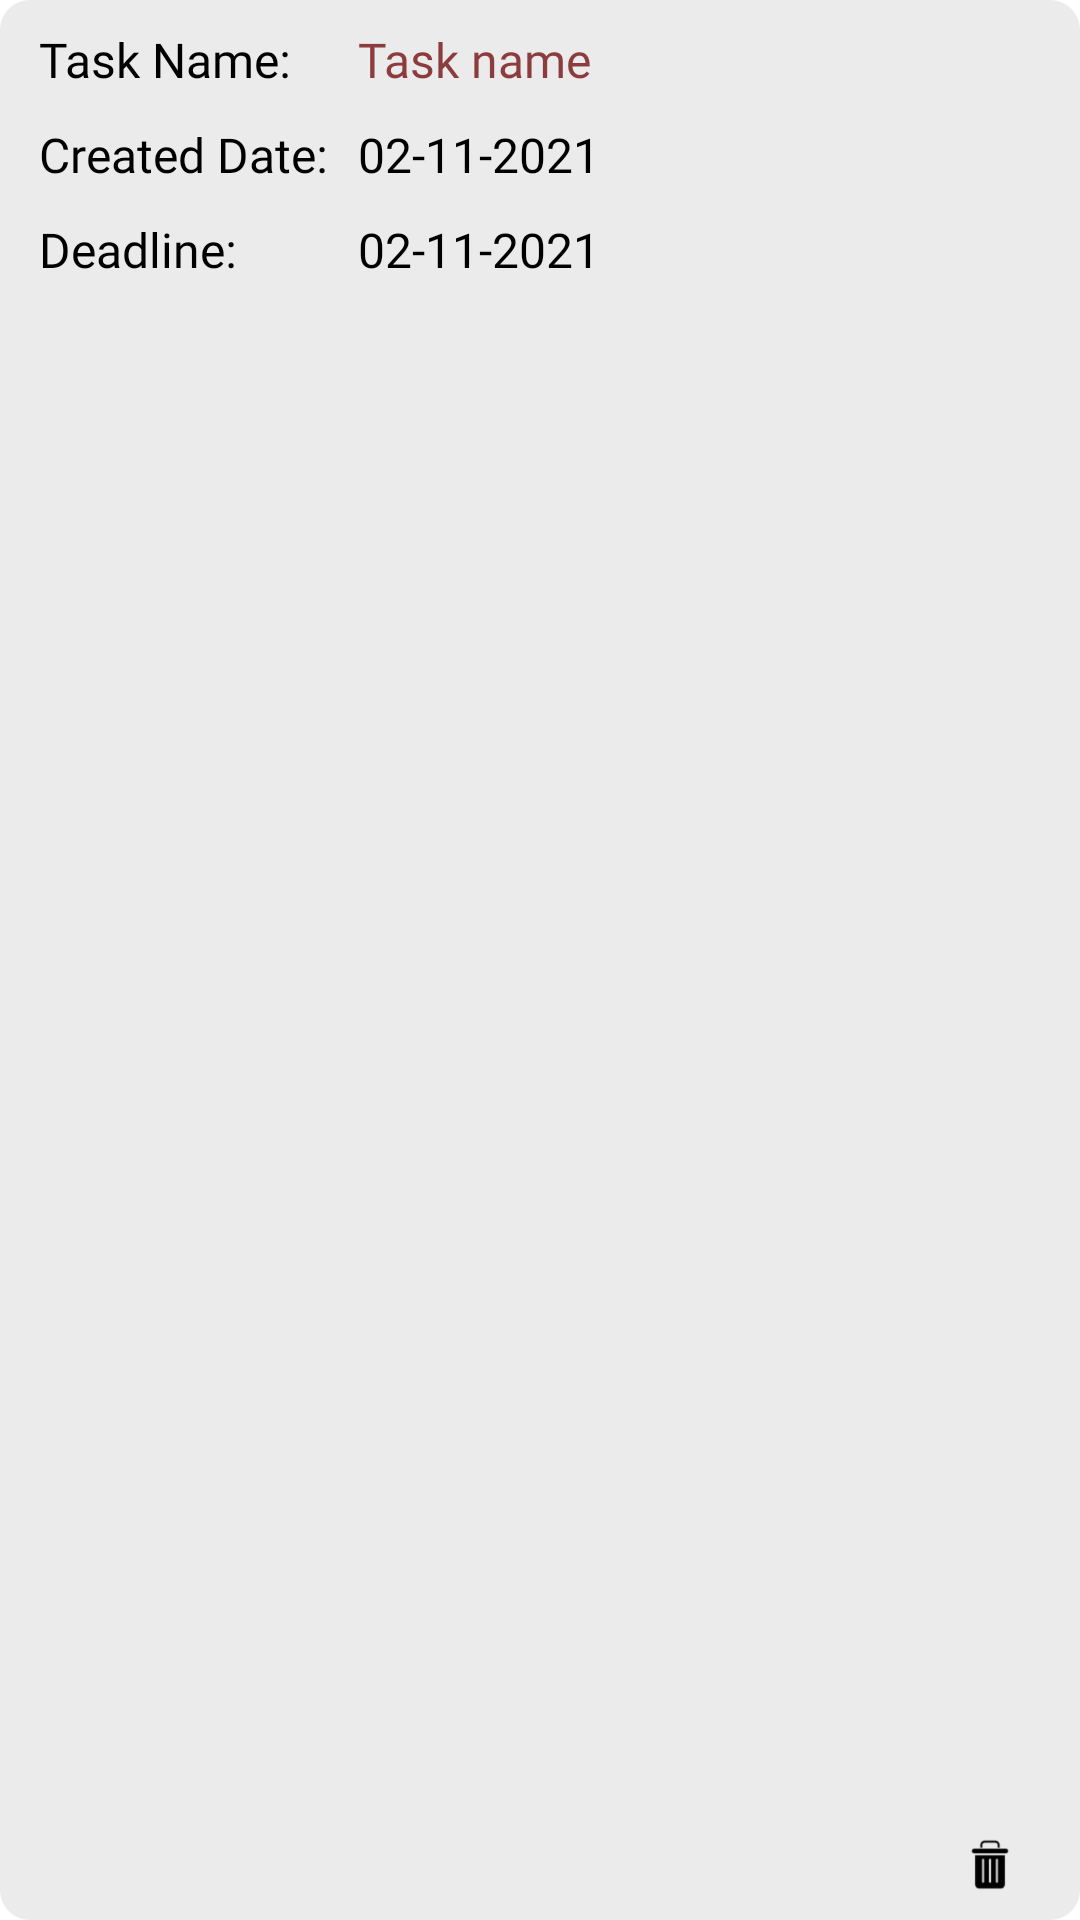

Icon click points for this 1080×1920 phone screenshot, format [x,y]:
delete: [990,1864]
